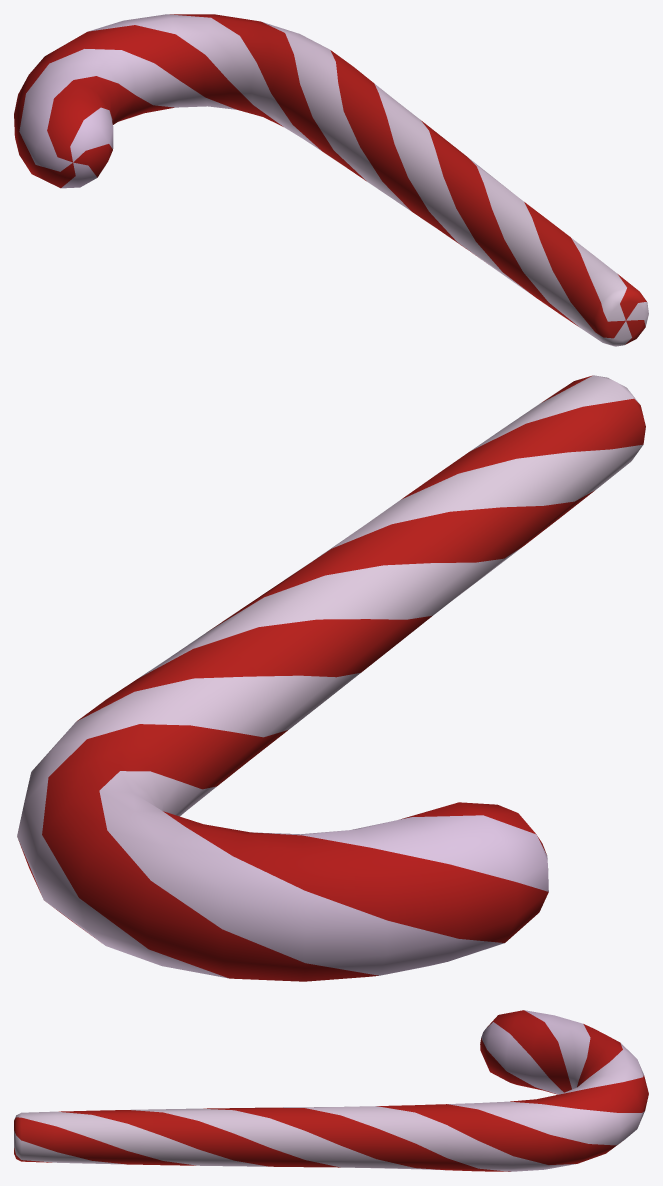
The model's file is Melee_Xmas2023.fbx.
The picture shows the model from 3 angles, top to bottom: view 1: azimuth 30°, elevation 25°; view 2: azimuth 150°, elevation 25°; view 3: azimuth 270°, elevation 25°; orthographic projection. The views are drawn at different scales.
Visible parts, largest first — view 1: Melee_Xmas2023; view 2: Melee_Xmas2023; view 3: Melee_Xmas2023.
Part boxes in pixels (left/top/right/bottom): Melee_Xmas2023: left=14, top=14, right=648, bottom=346; Melee_Xmas2023: left=17, top=375, right=645, bottom=981; Melee_Xmas2023: left=14, top=1010, right=648, bottom=1171.
Bounding box in the file's own units: 0.5199 × 0.1387 × 1.17.
